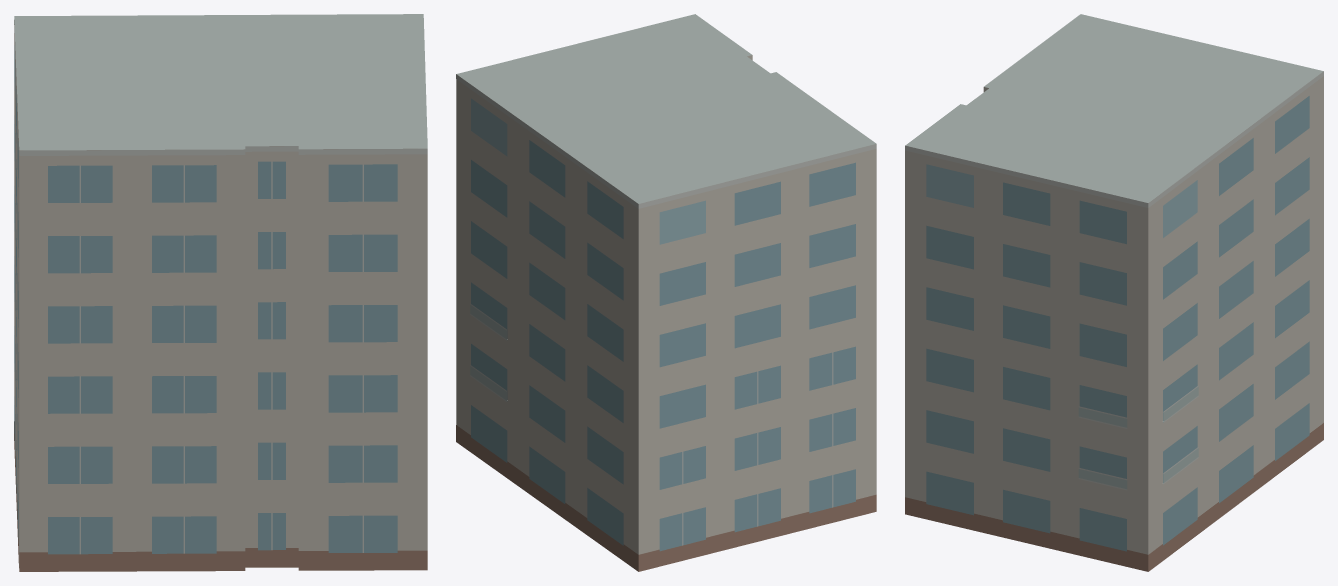
Rendered from survey-upis-32922089.glb.
3 renders of one model, left to right at view 1: azimuth 30°, elevation 25°; view 2: azimuth 150°, elevation 25°; view 3: azimuth 270°, elevation 25°, orthographic. The views are drawn at different scales.
Visible parts, largest first — view 1: survey-upis-32922089.tmp; view 2: survey-upis-32922089.tmp; view 3: survey-upis-32922089.tmp.
Part boxes in pixels (x1=…): survey-upis-32922089.tmp: x1=14, y1=14, x2=427, y2=571; survey-upis-32922089.tmp: x1=456, y1=14, x2=876, y2=571; survey-upis-32922089.tmp: x1=905, y1=14, x2=1323, y2=571.
Bounding box in the file's own units: 20.14 × 18.3 × 18.84.
